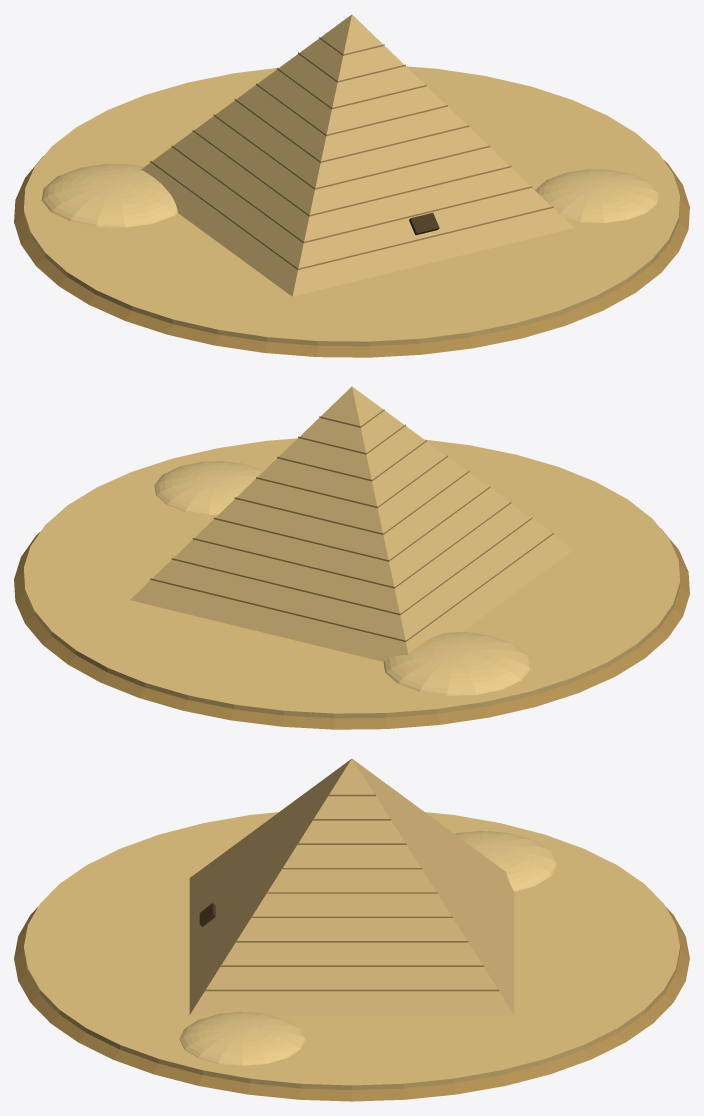
The model's file is great-pyramid.glb.
3 views of the same model, one above another, from view 1: azimuth 30°, elevation 25°; view 2: azimuth 150°, elevation 25°; view 3: azimuth 270°, elevation 25° (orthographic).
Parts seen in each view (by area): view 1: great-pyramid; view 2: great-pyramid; view 3: great-pyramid.
Boxes of the visible parts, x1=… form: great-pyramid: x1=14, y1=14, x2=689, y2=357; great-pyramid: x1=14, y1=386, x2=689, y2=729; great-pyramid: x1=14, y1=758, x2=689, y2=1101.
Bounding box in the file's own units: 3.06 × 1 × 3.06.
